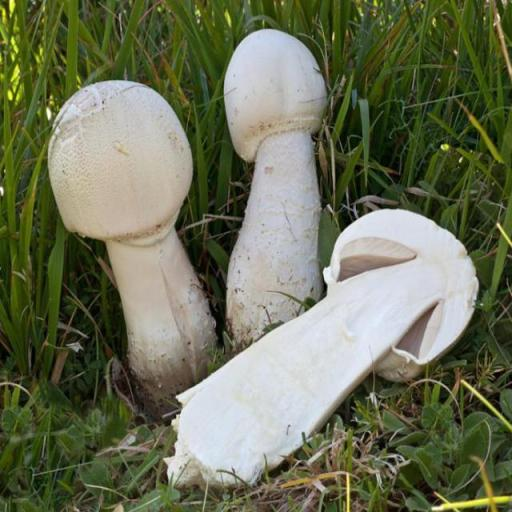Button Mushroom: (174, 207, 479, 486), (49, 81, 223, 422), (220, 34, 330, 339)
